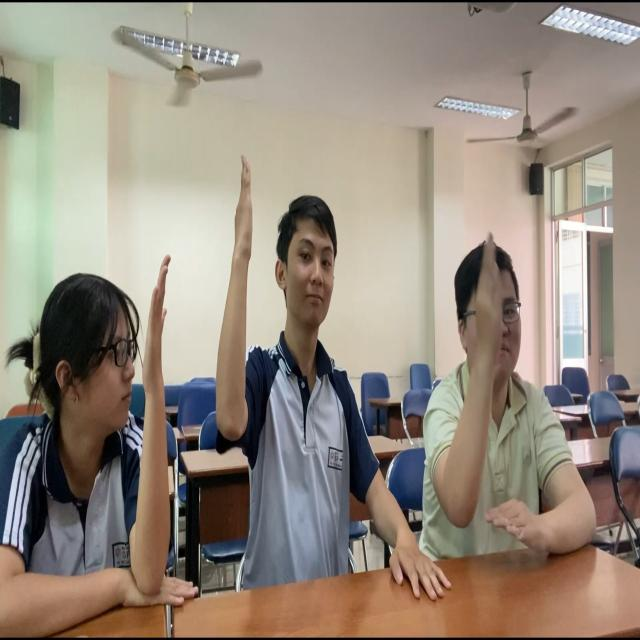raise_hand: (214, 136, 383, 590), (1, 247, 187, 640), (418, 214, 595, 561)
